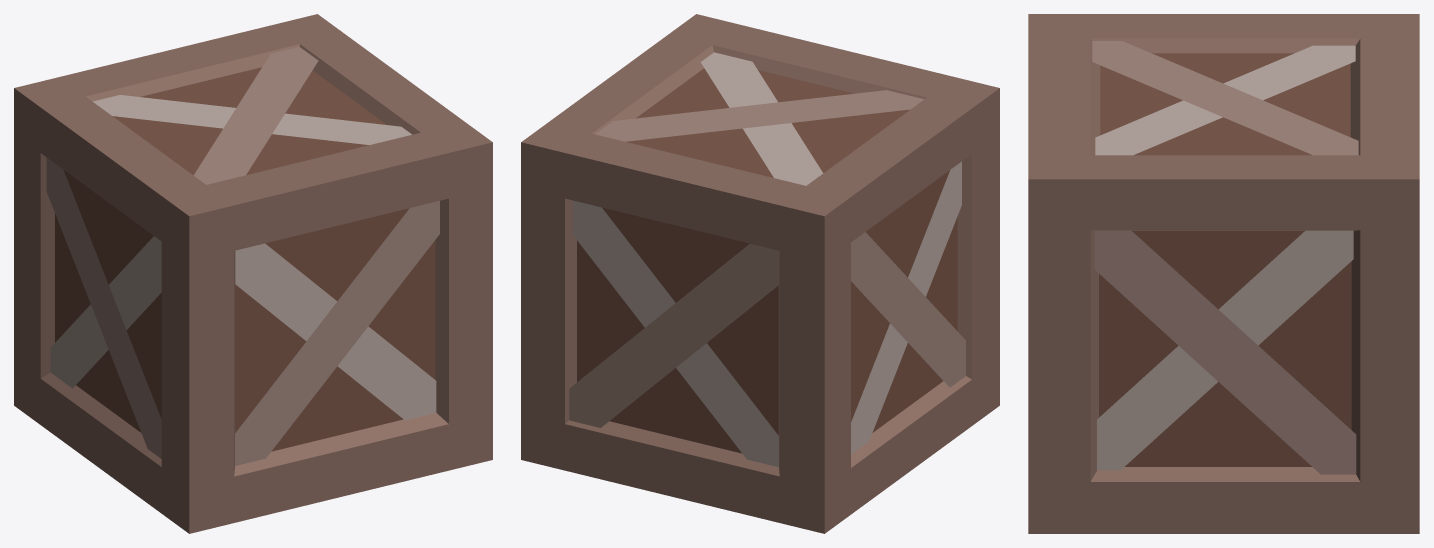
Rendered from Ship_004.fbx.
3 views of the same model, side by side, from view 1: azimuth 30°, elevation 25°; view 2: azimuth 150°, elevation 25°; view 3: azimuth 270°, elevation 25° (orthographic). The views are drawn at different scales.
Parts seen in each view (by area): view 1: Ship_004; view 2: Ship_004; view 3: Ship_004.
Boxes of the visible parts, x1,y1,x2,y2 form: Ship_004: (14,14,492,533); Ship_004: (521,14,999,533); Ship_004: (1028,14,1419,533).
Size of the model in its own units: 60.32 by 60.33 by 60.33.
1 material, 1 textured.
